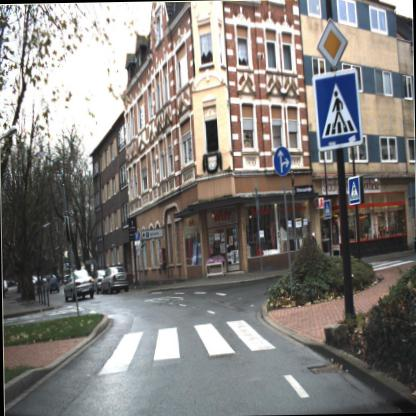mandatory: (310, 73, 362, 149), (269, 142, 293, 180), (345, 170, 365, 210), (317, 195, 334, 223)
other: (313, 14, 347, 68)
